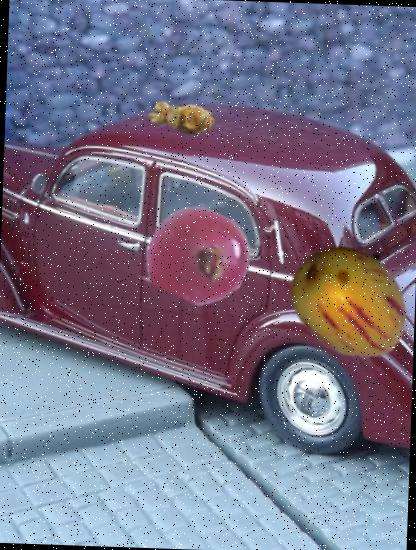Ginger: (146, 83, 218, 154)
Pepino: (285, 236, 414, 365)
Redcurrant: (148, 203, 252, 307)
